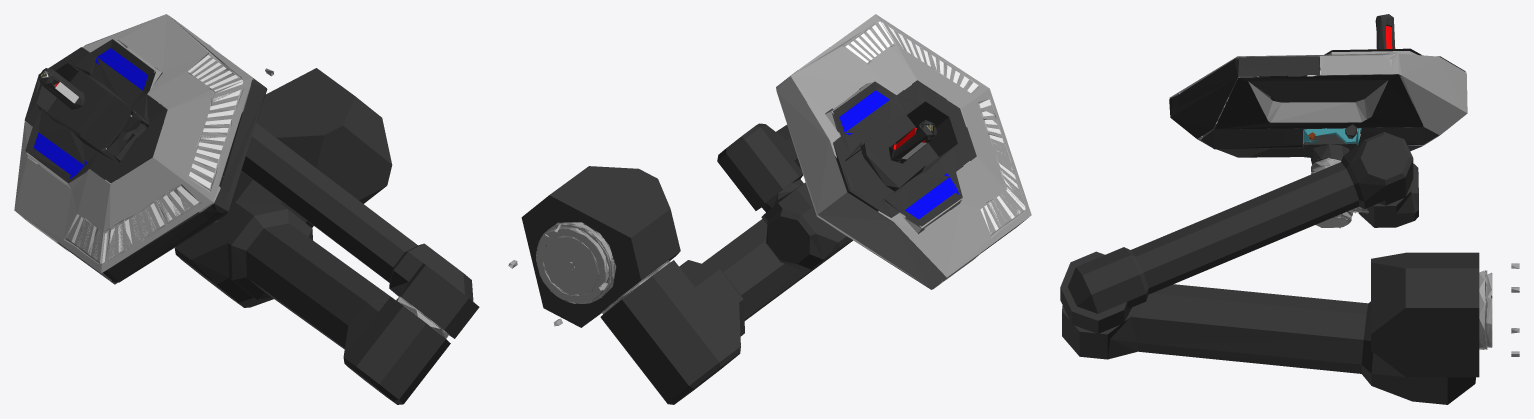
Rendered from tech-core.glb.
The picture shows the model from 3 angles, left to right: view 1: azimuth 30°, elevation 25°; view 2: azimuth 150°, elevation 25°; view 3: azimuth 270°, elevation 25°; orthographic projection. The views are drawn at different scales.
Parts seen in each view (by area): view 1: tech-core/upper_arm, tech-core/tool/assembly, tech-core/shared_joint_hardware, tech-core/forearm, tech-core/shoulder/housing, tech-core/tool/cover; view 2: tech-core/shared_joint_hardware, tech-core/upper_arm, tech-core/tool/assembly, tech-core/shoulder/housing, tech-core/forearm, tech-core/tool/cover; view 3: tech-core/forearm, tech-core/upper_arm, tech-core/shoulder/housing, tech-core/shared_joint_hardware, tech-core/tool/assembly, tech-core/tool/side_0, tech-core/tool/side_1.
Part boxes in pixels (x1,y1,x2,y2): tech-core/upper_arm: [174, 171, 450, 404]; tech-core/tool/assembly: [24, 39, 266, 282]; tech-core/shared_joint_hardware: [14, 14, 448, 338]; tech-core/forearm: [241, 123, 479, 338]; tech-core/shoulder/housing: [256, 68, 392, 203]; tech-core/tool/cover: [65, 185, 199, 263]; tech-core/shared_joint_hardware: [508, 14, 1031, 326]; tech-core/upper_arm: [600, 216, 905, 404]; tech-core/tool/assembly: [807, 21, 1028, 251]; tech-core/shoulder/housing: [521, 166, 680, 327]; tech-core/forearm: [717, 123, 849, 271]; tech-core/tool/cover: [978, 99, 1025, 236]; tech-core/forearm: [1060, 132, 1418, 333]; tech-core/upper_arm: [1062, 284, 1475, 404]; tech-core/shoulder/housing: [1371, 252, 1479, 377]; tech-core/shared_joint_hardware: [1169, 51, 1519, 356]; tech-core/tool/assembly: [1169, 14, 1465, 166]; tech-core/tool/side_0: [1214, 74, 1423, 129]; tech-core/tool/side_1: [1217, 146, 1422, 157].
Bounding box in the file's own units: 0.779 × 0.648 × 0.8761.
